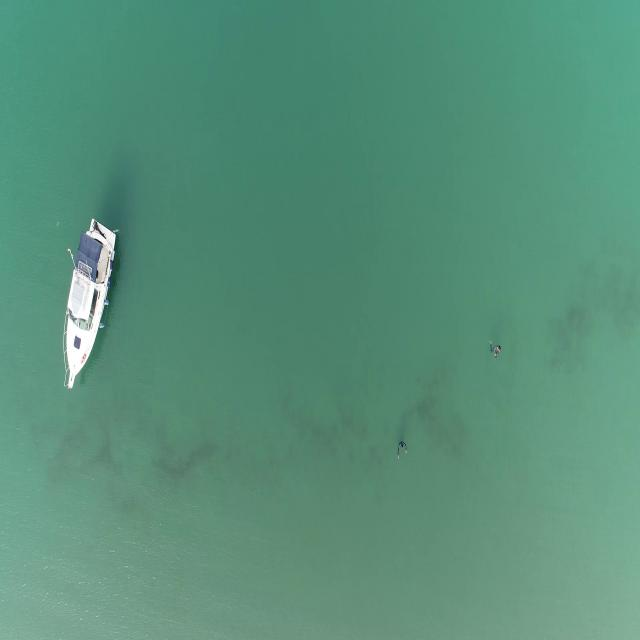boat: (59, 218, 120, 393)
person: (395, 440, 409, 463), (490, 340, 501, 362)
